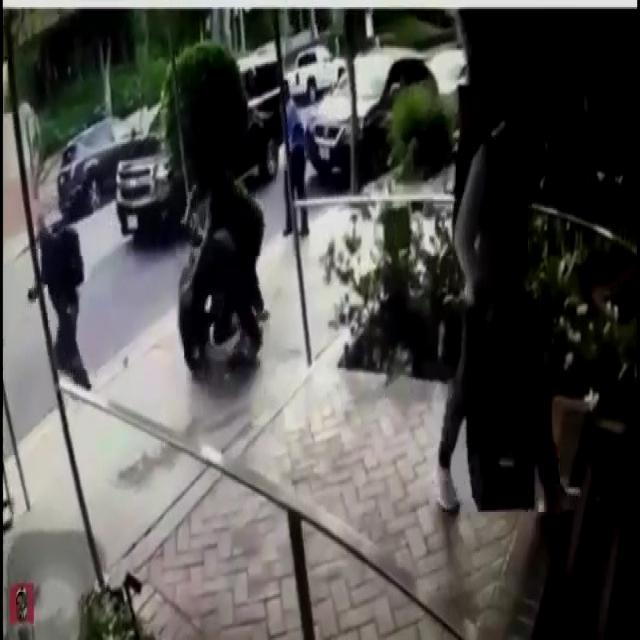fight: (156, 133, 270, 384)
